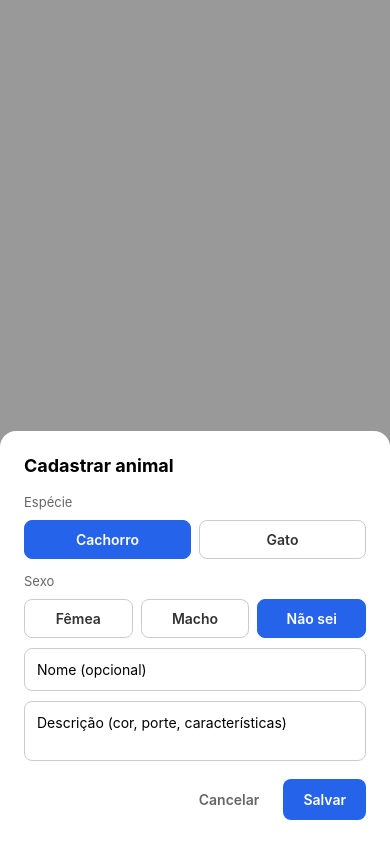
Test case: CreateAnimalModal › shows an error message when the submit fails
Click the text "Salvar": (325, 800) [303,791,346,808]
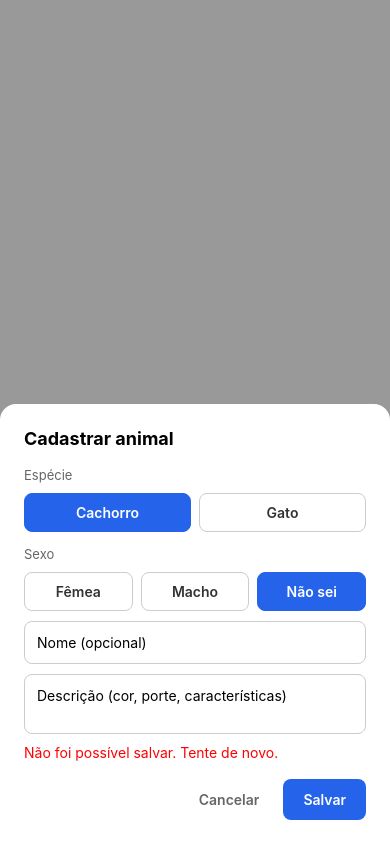
Result: the text "Não foi possível salvar. Tente de novo." is shown at [24,744,278,761]
